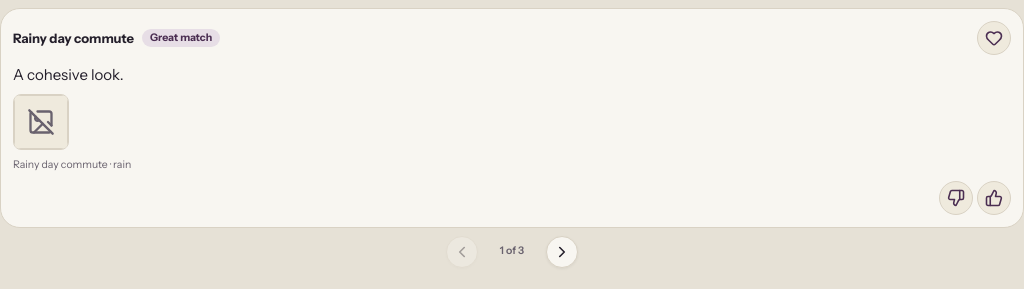
Test: SuggestionPager › advancing the pager updates the indicator
What coordinates should you click on to do the following:
click the button named "Next suggestion"
I would click on:
 (562, 252)
Its box is [546, 236, 578, 268].
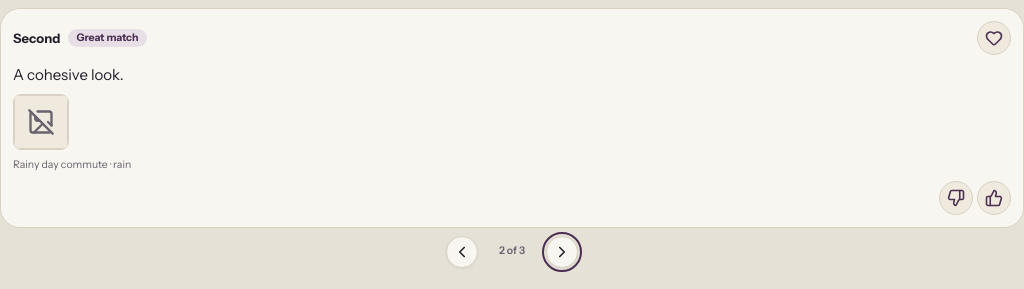
Now the text "2 of 3" is shown, box [499, 244, 525, 257]
